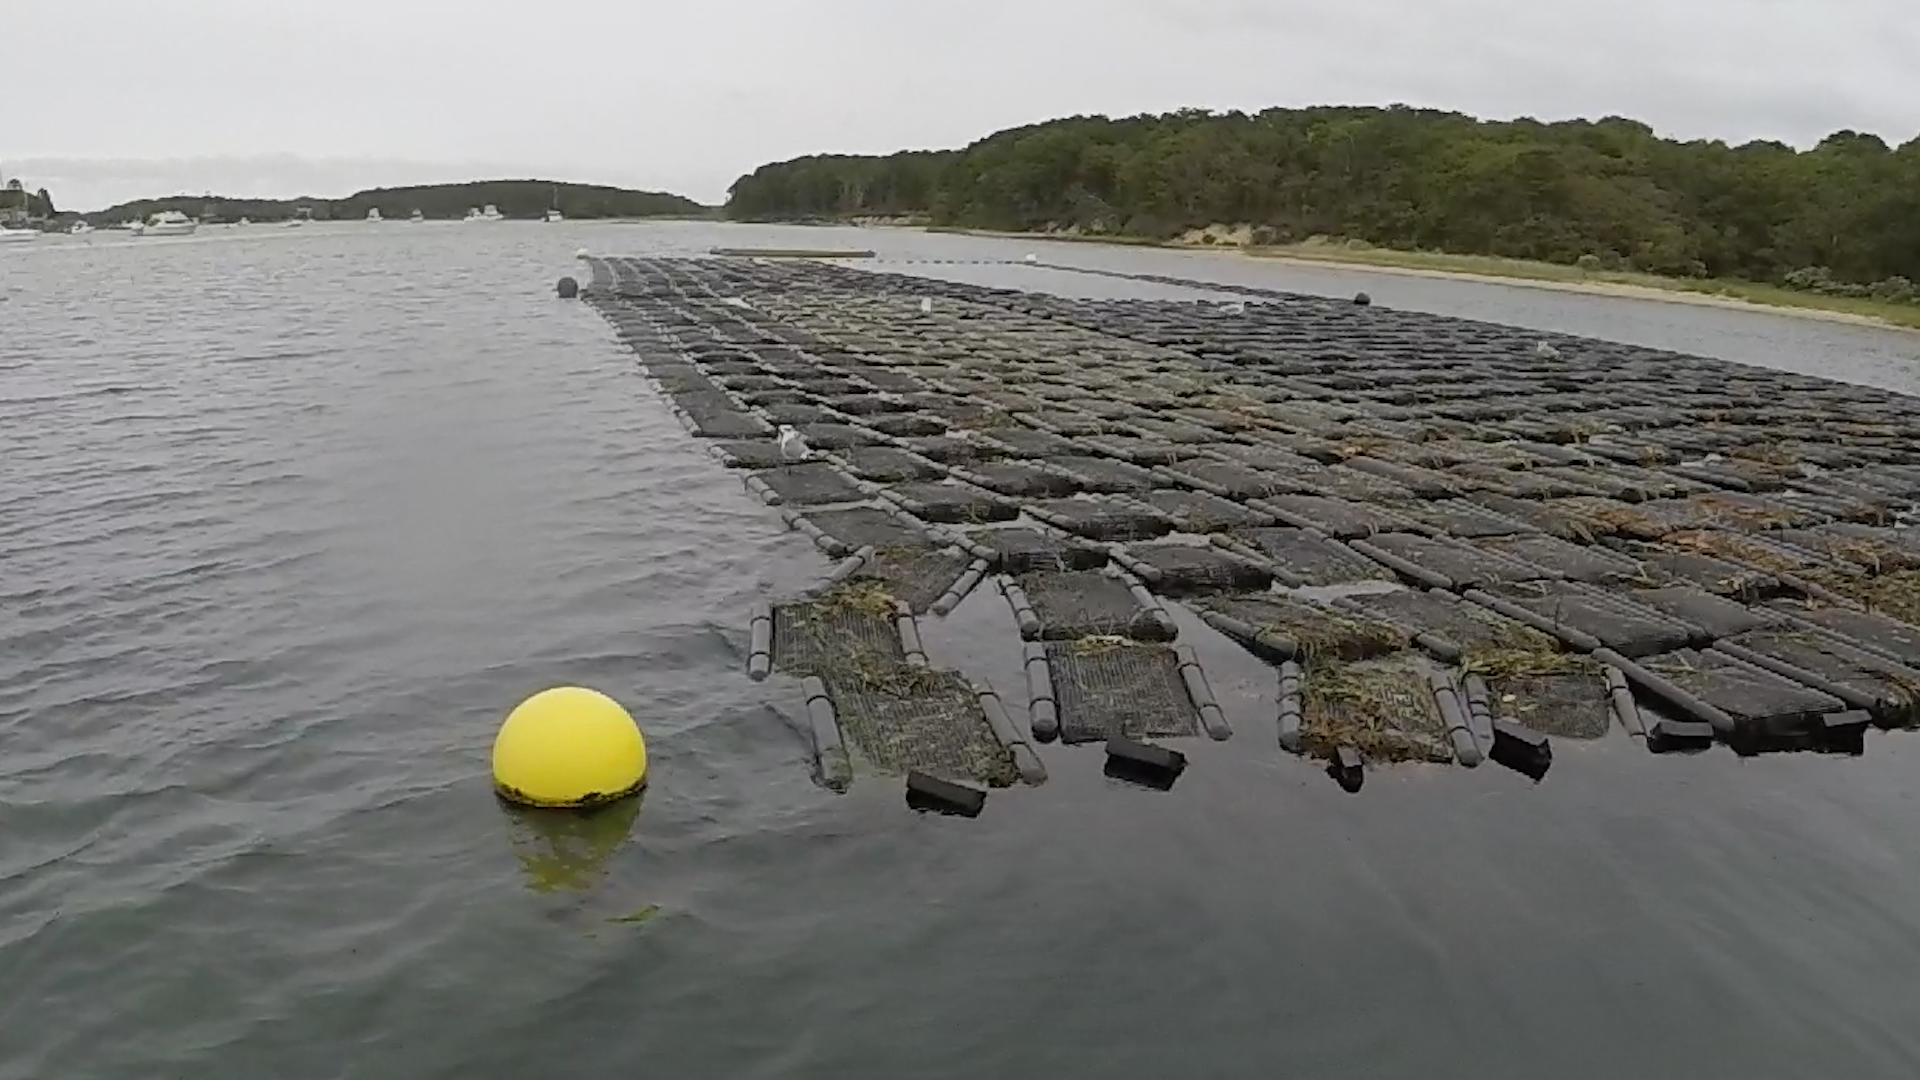bag: (791, 665, 1054, 794), (1259, 651, 1476, 775), (1025, 636, 1232, 752)
